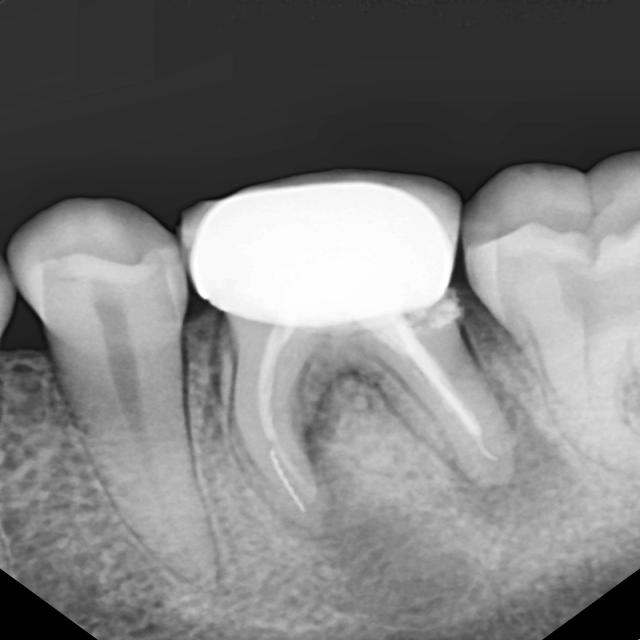Crown: (192, 172, 478, 316)
Normal: (3, 173, 251, 611)
RCT: (238, 326, 524, 517)
